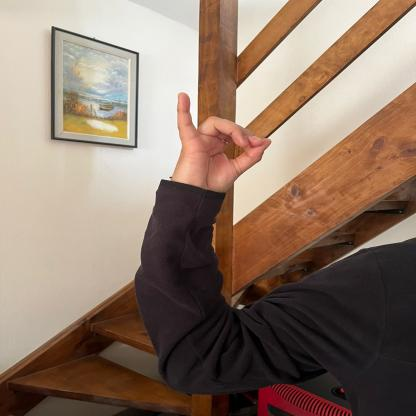D: (156, 89, 274, 195)
